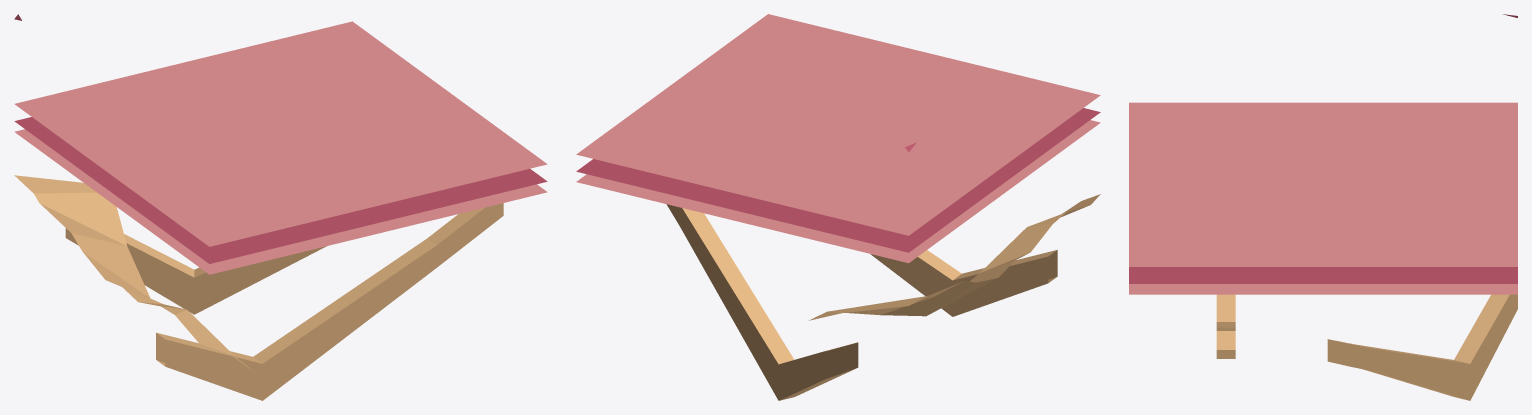
Rendered from cell_048.obj.
3 views of the same model, side by side, from view 1: azimuth 30°, elevation 25°; view 2: azimuth 150°, elevation 25°; view 3: azimuth 270°, elevation 25° (orthographic).
Size of the model in its own units: 1 by 0.8825 by 1.
